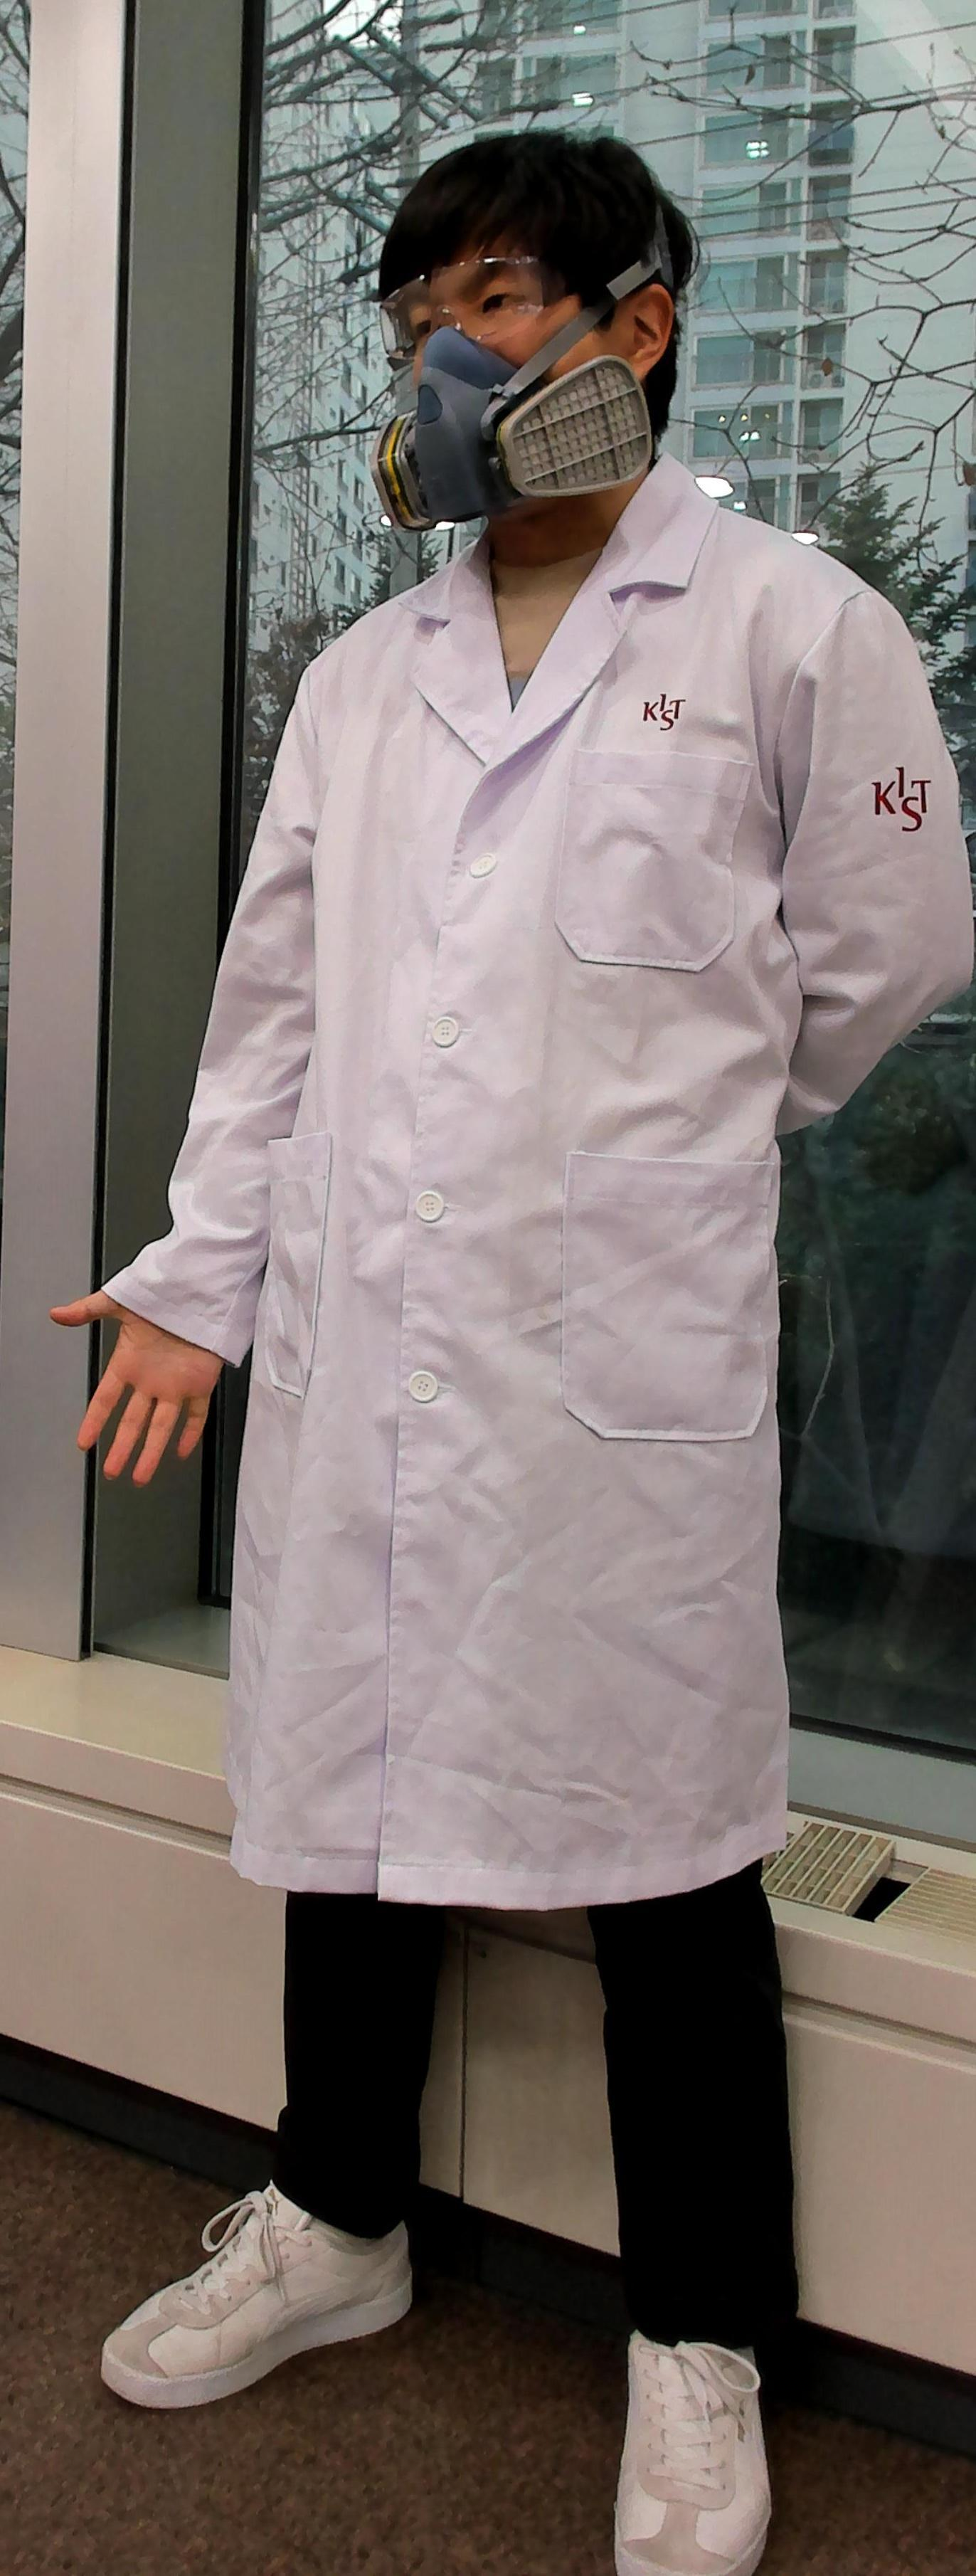lab_coat: (222, 591, 938, 1909)
